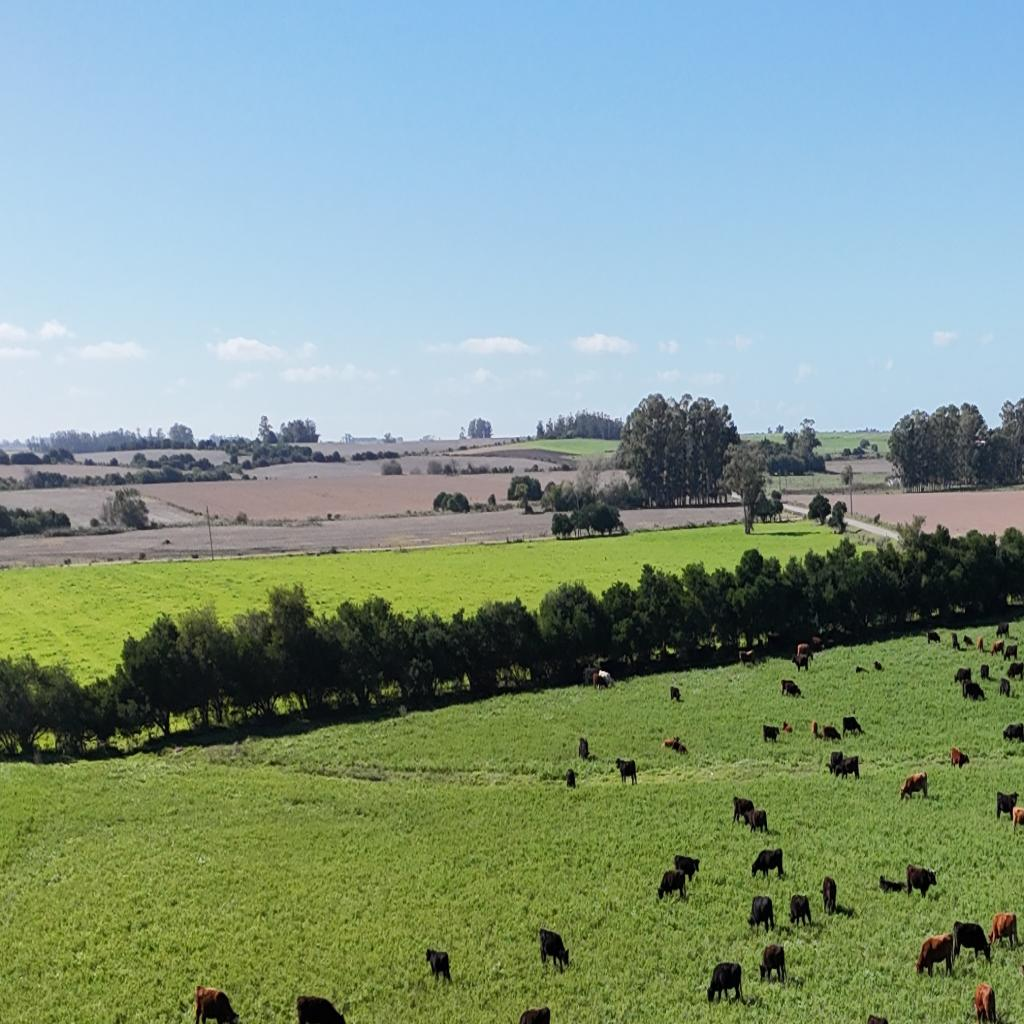cow: (914, 933, 954, 978), (952, 921, 992, 965), (193, 984, 239, 1022), (706, 961, 742, 1005), (295, 994, 347, 1022), (539, 927, 570, 972), (988, 910, 1020, 953), (759, 944, 786, 986), (658, 868, 688, 904), (751, 848, 784, 880), (792, 639, 824, 672), (906, 864, 937, 898), (747, 895, 774, 934), (974, 981, 997, 1023), (426, 948, 452, 984), (673, 854, 701, 884), (900, 773, 928, 802), (789, 894, 810, 928), (996, 790, 1019, 820), (732, 796, 754, 826), (822, 876, 838, 915), (836, 756, 861, 780), (616, 758, 637, 786), (746, 808, 768, 834), (519, 1006, 550, 1024), (879, 875, 905, 894), (842, 716, 864, 738), (963, 681, 986, 702), (662, 735, 686, 755), (1002, 722, 1024, 743), (950, 746, 970, 769), (827, 750, 844, 776), (781, 679, 801, 698), (762, 724, 780, 744), (822, 724, 842, 742), (594, 670, 612, 690), (954, 668, 973, 686), (813, 725, 830, 744), (1004, 646, 1022, 663), (583, 668, 598, 688), (793, 655, 809, 672), (740, 650, 754, 668), (985, 668, 1003, 682), (796, 643, 811, 659), (1000, 678, 1012, 697), (1016, 804, 1024, 832), (997, 622, 1010, 639), (578, 737, 588, 759), (1013, 661, 1024, 681), (866, 1014, 889, 1023), (566, 769, 576, 789), (927, 631, 941, 645), (670, 686, 682, 702), (991, 641, 1003, 657), (1012, 722, 1024, 738), (980, 664, 991, 681), (811, 720, 820, 740), (952, 632, 962, 650), (811, 637, 823, 651), (1015, 643, 1024, 661), (782, 720, 792, 734), (661, 737, 671, 751), (977, 636, 985, 652), (964, 636, 972, 652), (874, 661, 882, 671), (856, 666, 866, 674)
